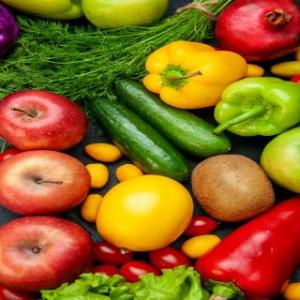bell_pepper: (137, 40, 251, 108), (210, 76, 300, 138)
cucumber: (89, 93, 192, 183), (112, 77, 232, 151)
